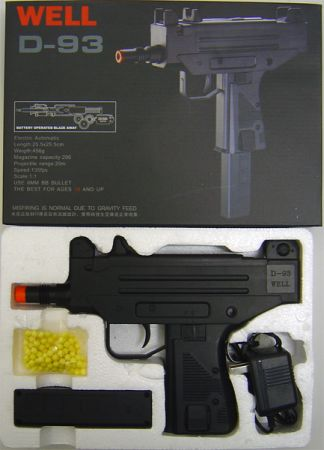pistol: (11, 240, 297, 435)
